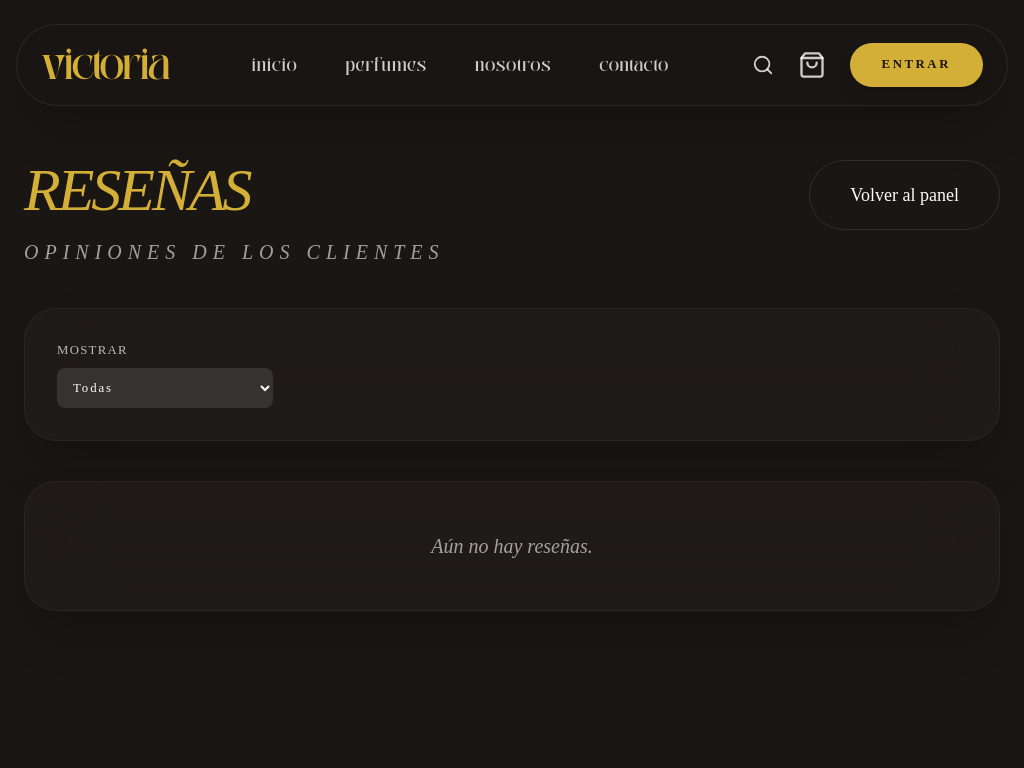
panel: reseñas › filtra por reseñas ocultas
The image size is (1024, 768).
Expected: the text "Aún no hay reseñas." is shown, [431, 535, 593, 557]
Select "Ocultas" in the dropdown labelled "Mostrar" at x=165, y=388, box [57, 368, 272, 408]
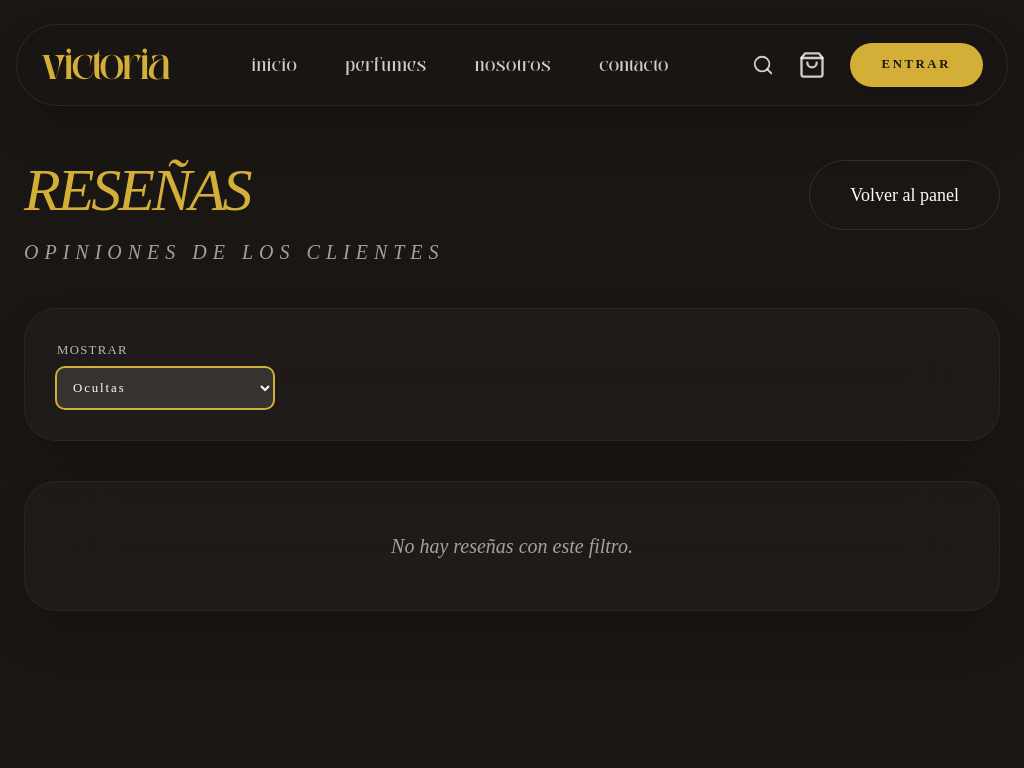
Now the text "No hay reseñas con este filtro." is shown, box [391, 535, 633, 557]
